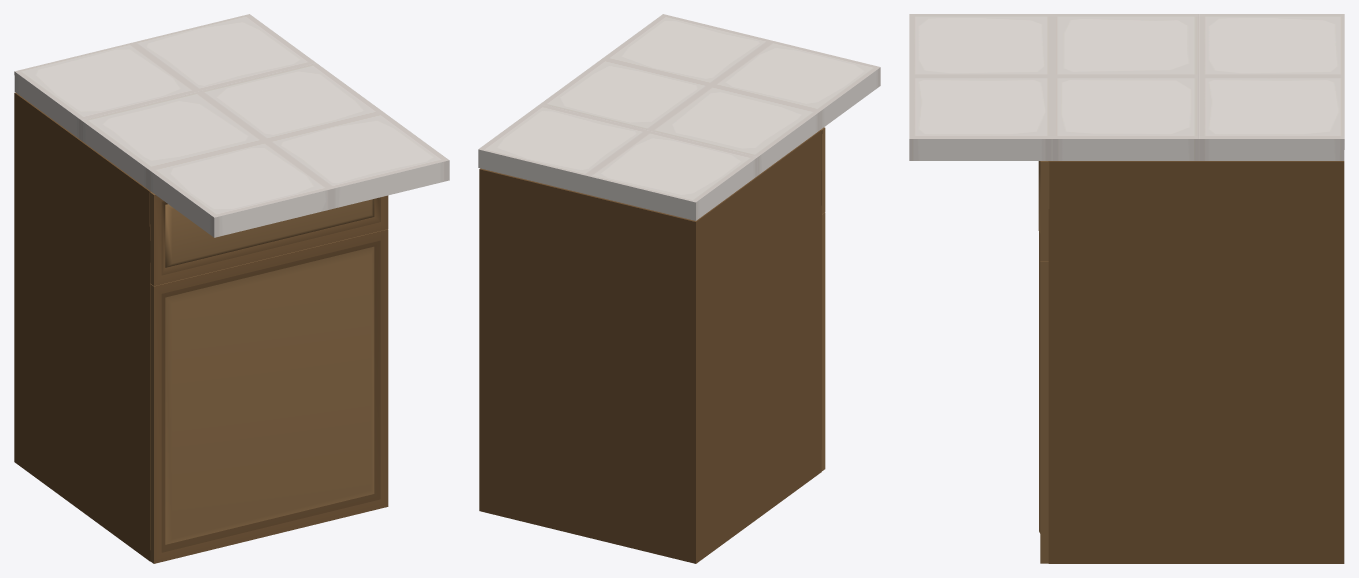
The model's file is SM_Prop_KitchenTabletop_03.obj.
3 renders of one model, left to right at view 1: azimuth 30°, elevation 25°; view 2: azimuth 150°, elevation 25°; view 3: azimuth 270°, elevation 25°, orthographic. The views are drawn at different scales.
Parts seen in each view (by area): view 1: SM_Prop_KitchenTabletop_03_Mat_SwatchOverlay_Farm_01_Wood_Inst, SM_Prop_KitchenTabletop_03_Mat_SwatchOverlay_Farm_Main_01_Inst; view 2: SM_Prop_KitchenTabletop_03_Mat_SwatchOverlay_Farm_01_Wood_Inst, SM_Prop_KitchenTabletop_03_Mat_SwatchOverlay_Farm_Main_01_Inst; view 3: SM_Prop_KitchenTabletop_03_Mat_SwatchOverlay_Farm_01_Wood_Inst, SM_Prop_KitchenTabletop_03_Mat_SwatchOverlay_Farm_Main_01_Inst.
Part boxes in pixels (x1,y1,x2,y2): SM_Prop_KitchenTabletop_03_Mat_SwatchOverlay_Farm_01_Wood_Inst: [14, 92, 388, 563]; SM_Prop_KitchenTabletop_03_Mat_SwatchOverlay_Farm_Main_01_Inst: [14, 14, 449, 237]; SM_Prop_KitchenTabletop_03_Mat_SwatchOverlay_Farm_01_Wood_Inst: [479, 127, 825, 563]; SM_Prop_KitchenTabletop_03_Mat_SwatchOverlay_Farm_Main_01_Inst: [478, 14, 880, 220]; SM_Prop_KitchenTabletop_03_Mat_SwatchOverlay_Farm_01_Wood_Inst: [1038, 161, 1344, 563]; SM_Prop_KitchenTabletop_03_Mat_SwatchOverlay_Farm_Main_01_Inst: [909, 14, 1344, 160].
Bounding box in the file's own units: 0.5578 × 0.883 × 0.8188.
2 materials, 2 textured.
